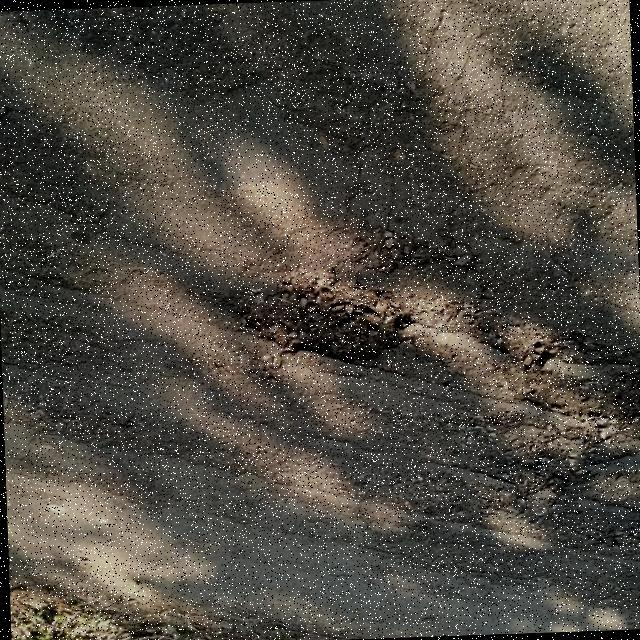Pothole: (191, 268, 640, 514)
